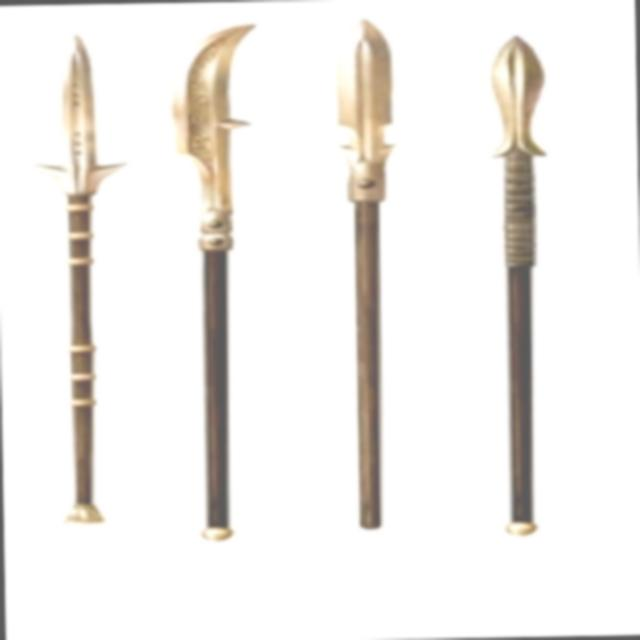spear: (15, 28, 138, 552), (160, 9, 272, 548), (322, 12, 425, 542), (484, 15, 565, 547)
